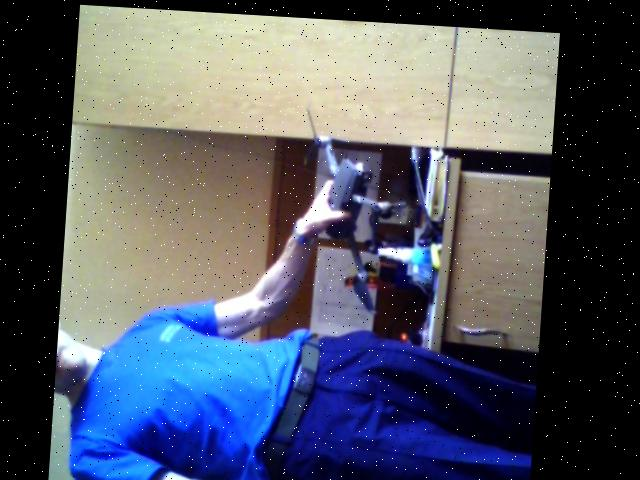drone: (287, 99, 396, 306)
